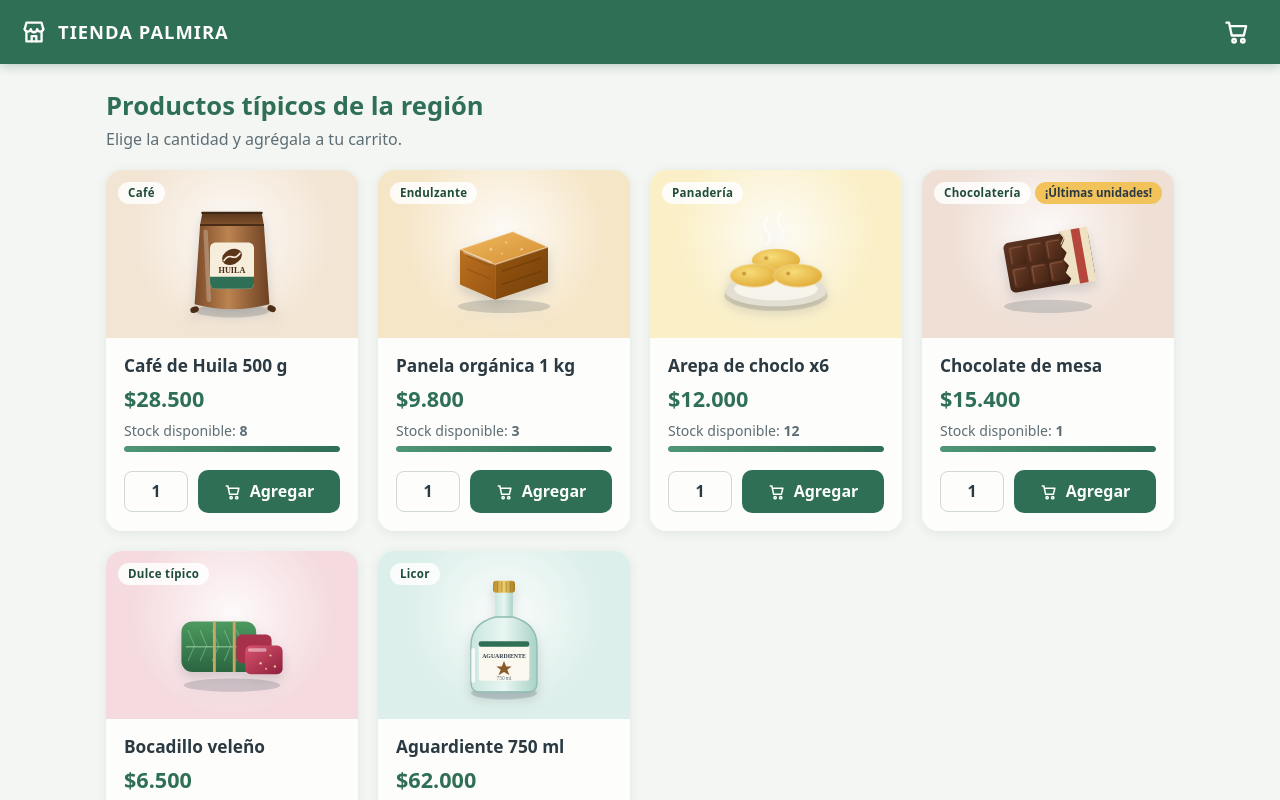
Scenario: Casos de prueba del instructor › 12. El ícono del carrito está a la derecha con la suma de unidades
Replace the text in the number field named "Cantidad de Café de Huila 500 g" with "2": (156, 492) [124,471,188,512]
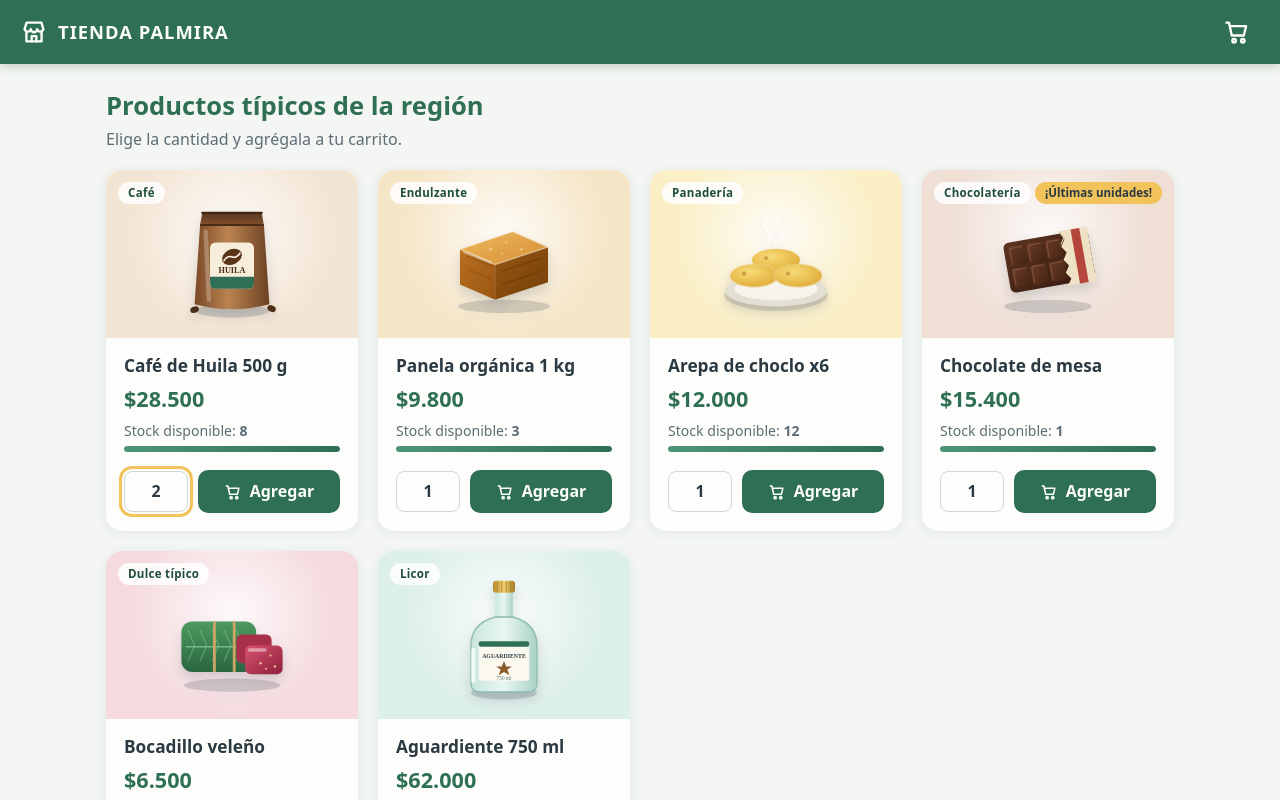
Click the button "Agregar" below "$28.500": click(269, 492) [198,470,340,513]
(page scrolled)
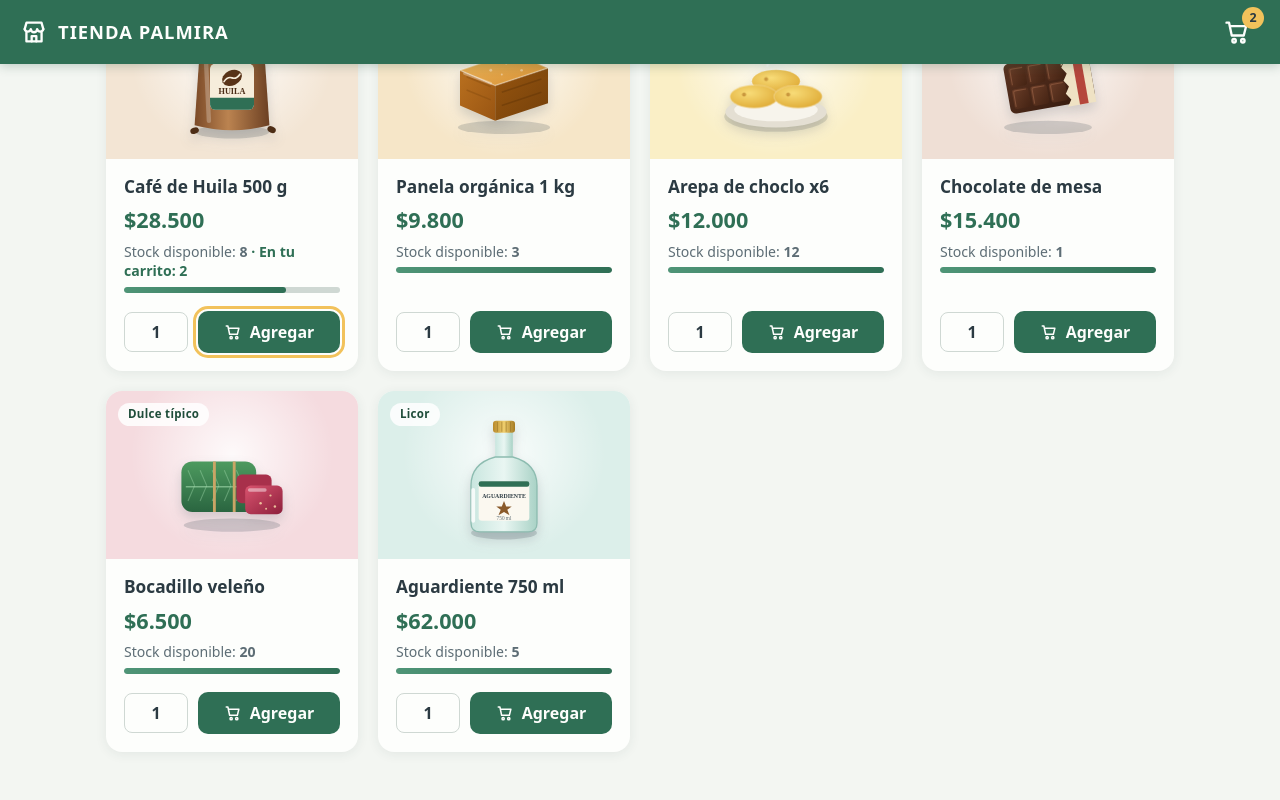
Replace the text in the number field named "Cantidad de Bocadillo veleño" with "4": (156, 713) [124,692,188,733]
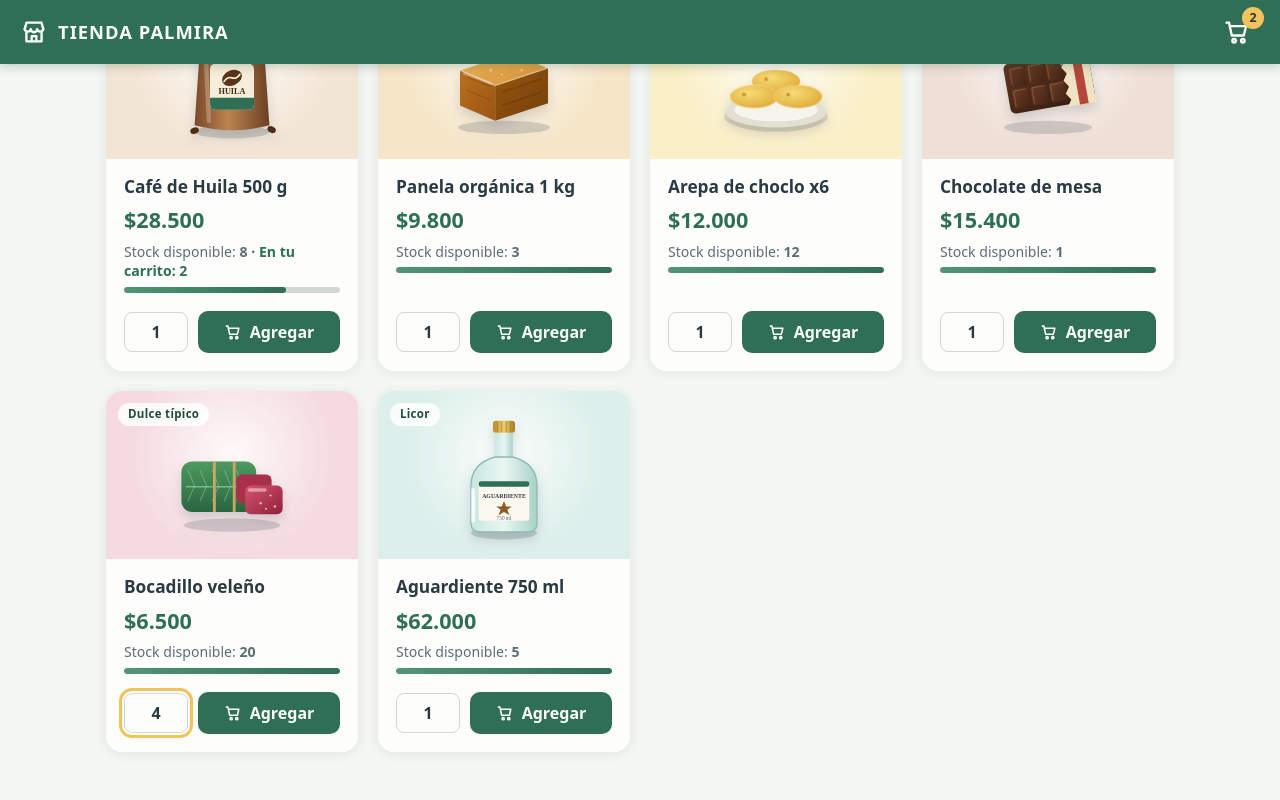
Click the button "Agregar" below "20": click(269, 713) [198,692,340,734]
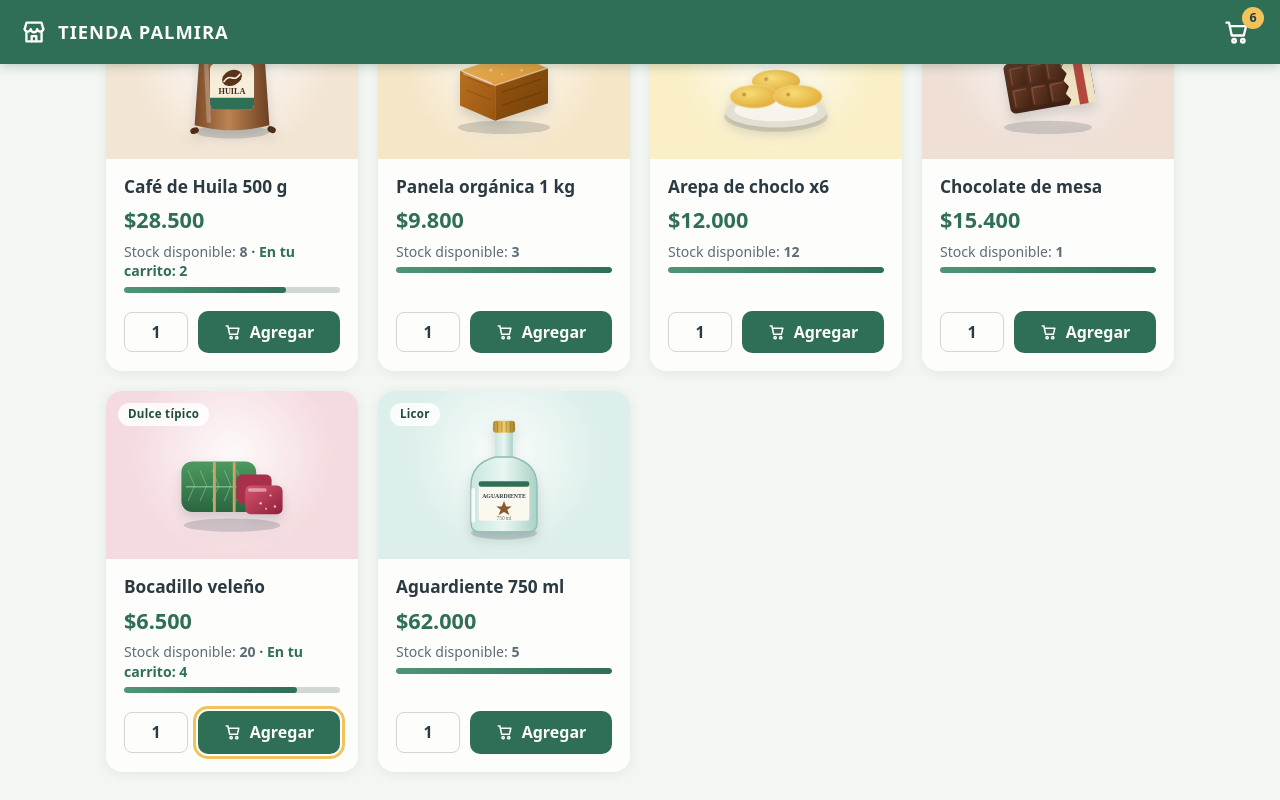
Check: the text with test id "contador-carrito" reads "6", box [1249,9,1256,26]
